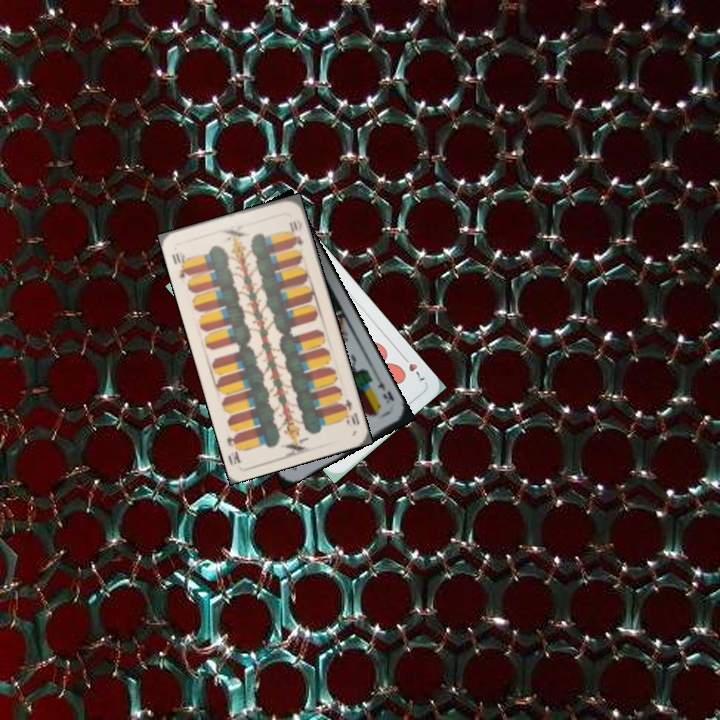E10: (168, 246, 193, 281), (336, 395, 362, 428)
EK: (373, 373, 397, 406)
H7: (398, 351, 428, 383)
